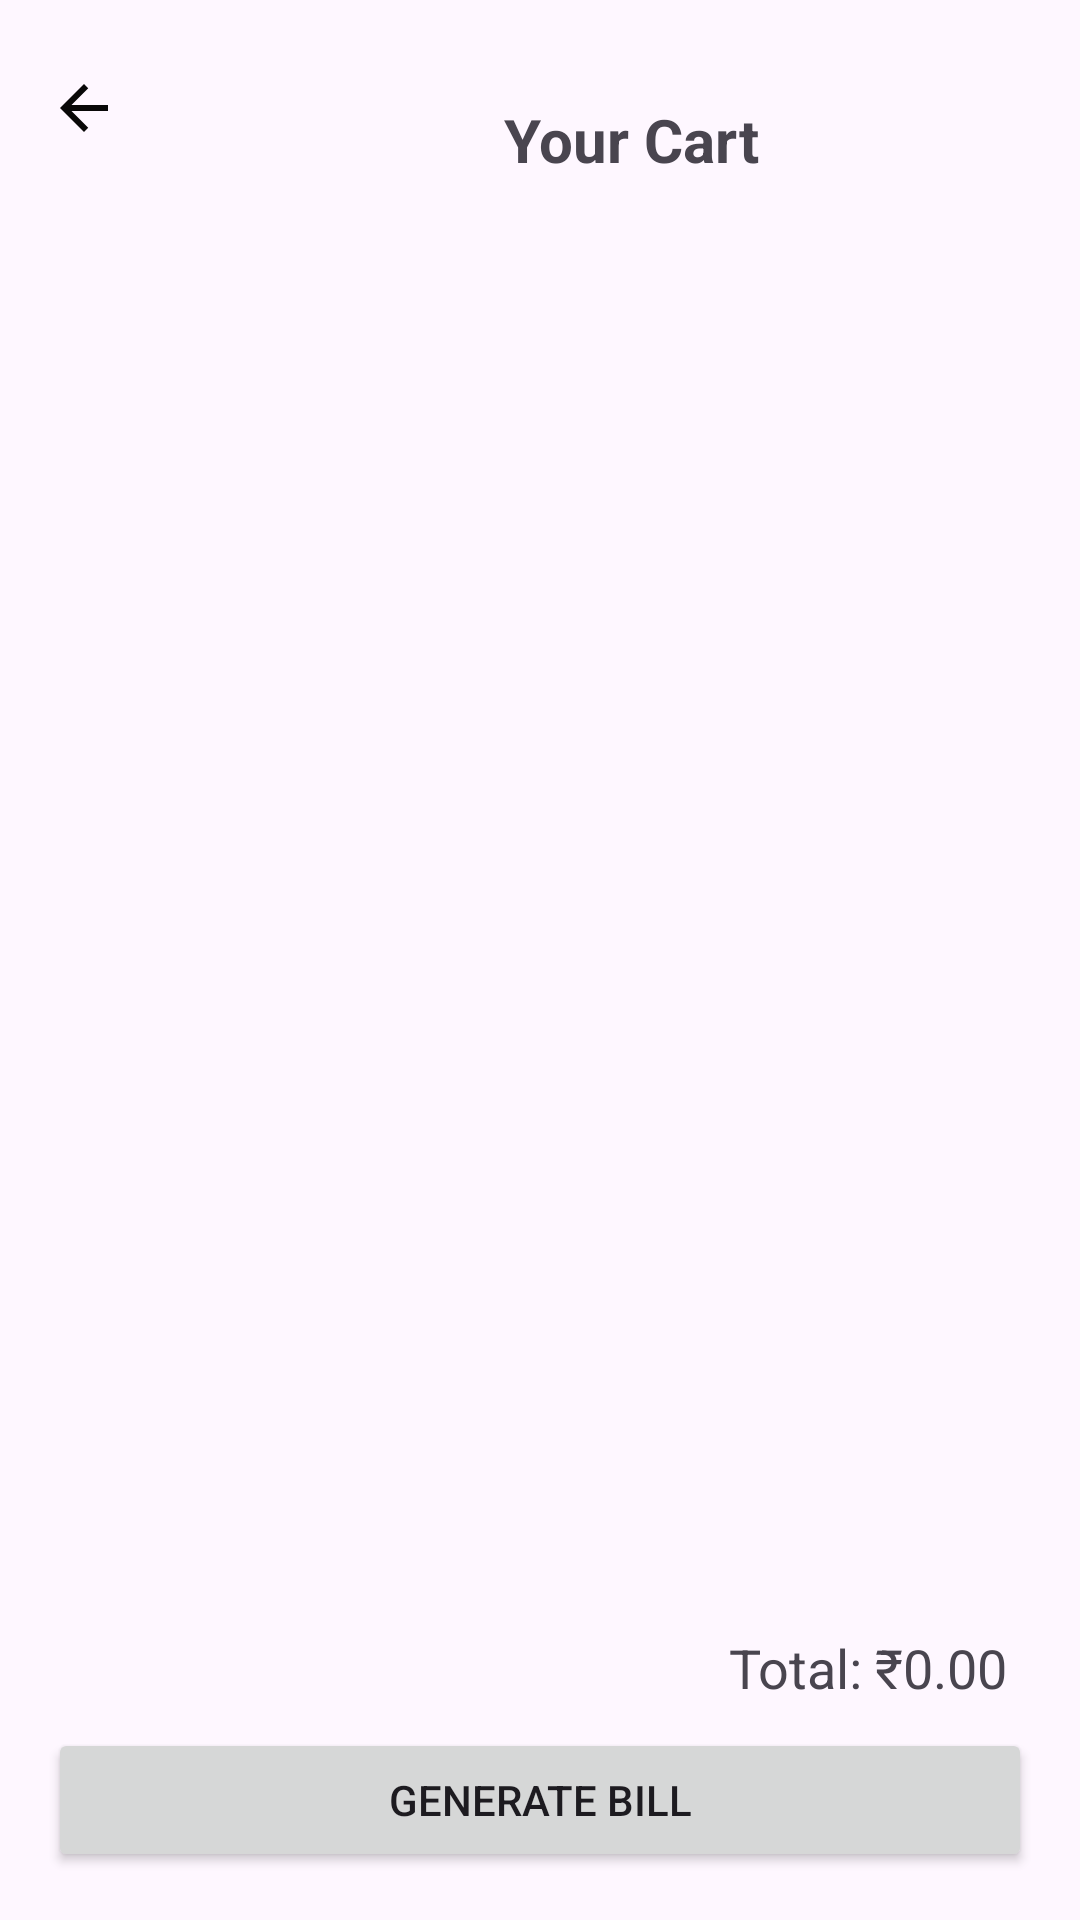

Where icons sit on this 1080w x 1920h app screen, as (x1, y1, x2, y2):
Back Button: (60, 84, 108, 132)
